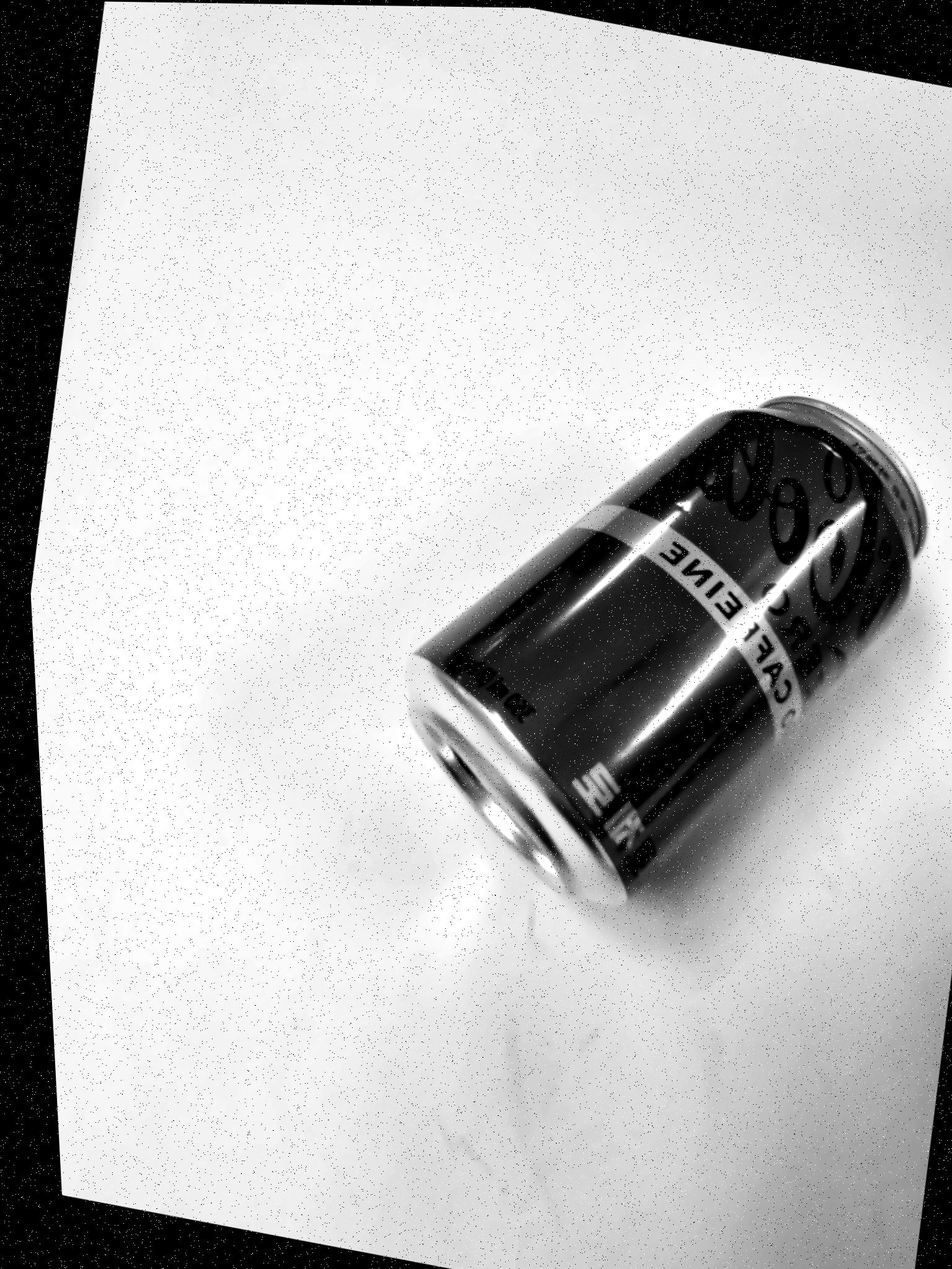can_coke_decaf: (408, 397, 926, 904)
